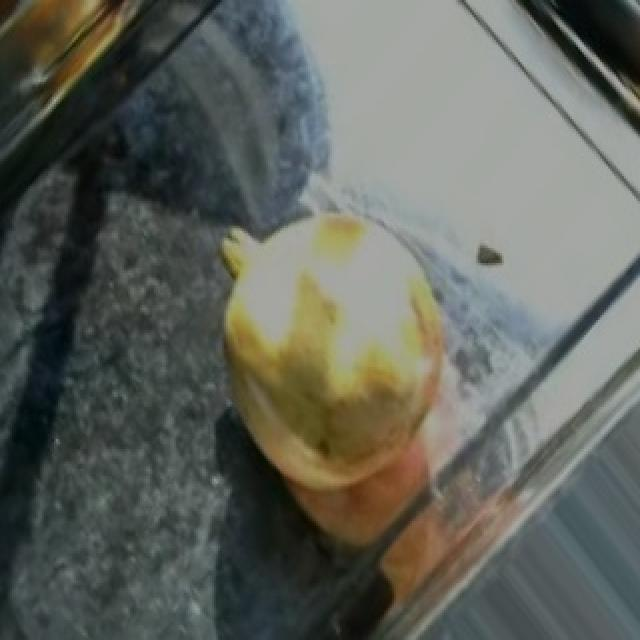fruit: (172, 178, 454, 432)
